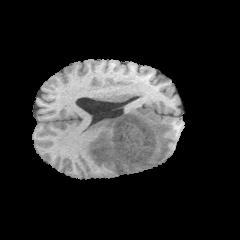glioma: (86, 108, 175, 172)
